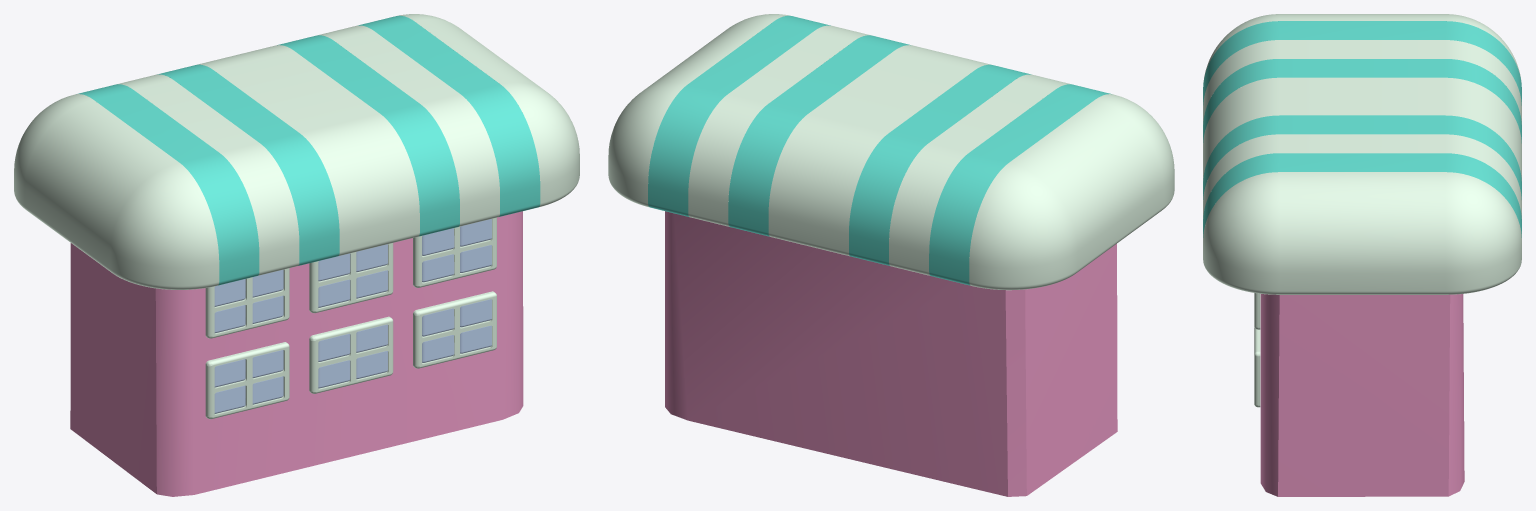
File: building.glb
3 renders of one model, left to right at view 1: azimuth 30°, elevation 25°; view 2: azimuth 150°, elevation 25°; view 3: azimuth 270°, elevation 25°, orthographic. The views are drawn at different scales.
Parts seen in each view (by area): view 1: Roof2, Building.001, Window2.003, WindowPane2; view 2: Roof2, Building.001; view 3: Roof2, Building.001, WindowPane2.
Part boxes in pixels (left/top/right/bottom): Roof2: left=14, top=14, right=579, bottom=289; Building.001: left=70, top=211, right=523, bottom=496; Window2.003: left=214, top=219, right=491, bottom=413; WindowPane2: left=205, top=217, right=496, bottom=419; Roof2: left=608, top=14, right=1174, bottom=290; Building.001: left=665, top=211, right=1117, bottom=496; Roof2: left=1203, top=14, right=1521, bottom=294; Building.001: left=1260, top=294, right=1464, bottom=496; WindowPane2: left=1254, top=293, right=1260, bottom=407.
Size of the model in its own units: 4 by 2.72 by 2.5.
